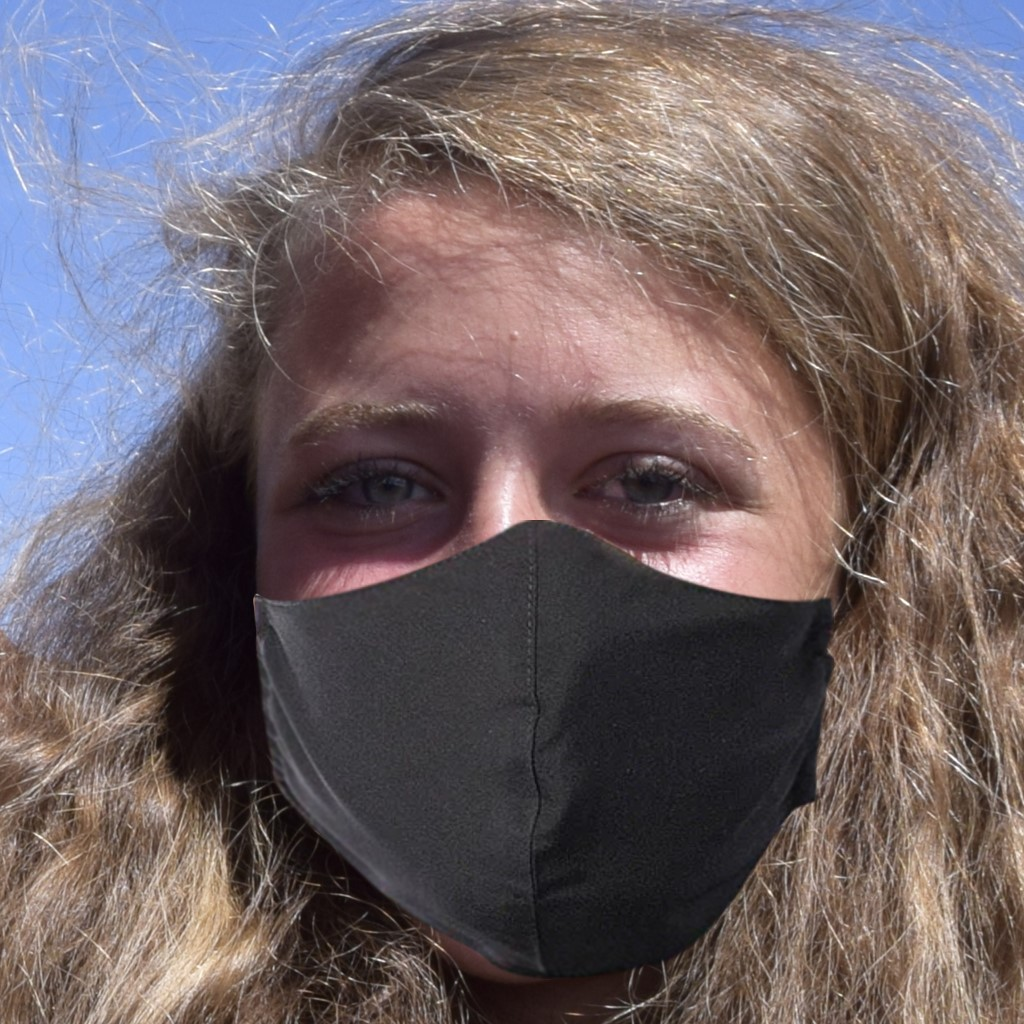con_mascara: (253, 171, 865, 965)
